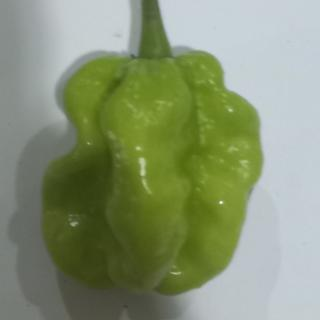Grade-A: (33, 41, 269, 298)
